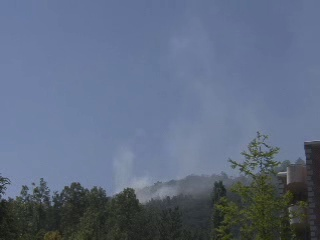smoke: (134, 141, 220, 203), (106, 148, 135, 199)
